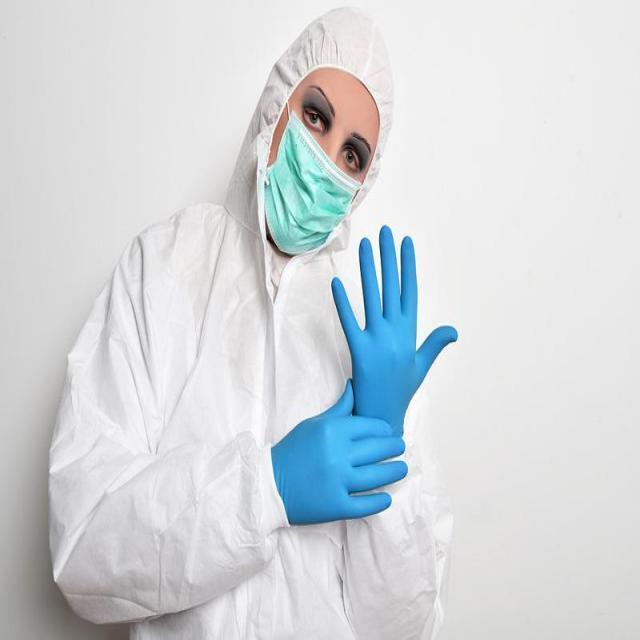gloves: (331, 226, 459, 454), (271, 378, 410, 527)
